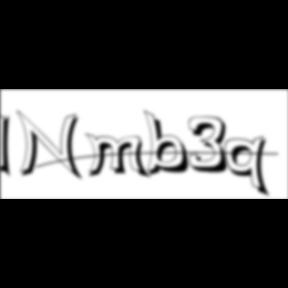3: (189, 116, 235, 176)
N: (17, 109, 87, 183)
b: (144, 109, 197, 179)
l: (1, 108, 18, 182)
m: (85, 132, 153, 181)
q: (225, 135, 274, 200)
